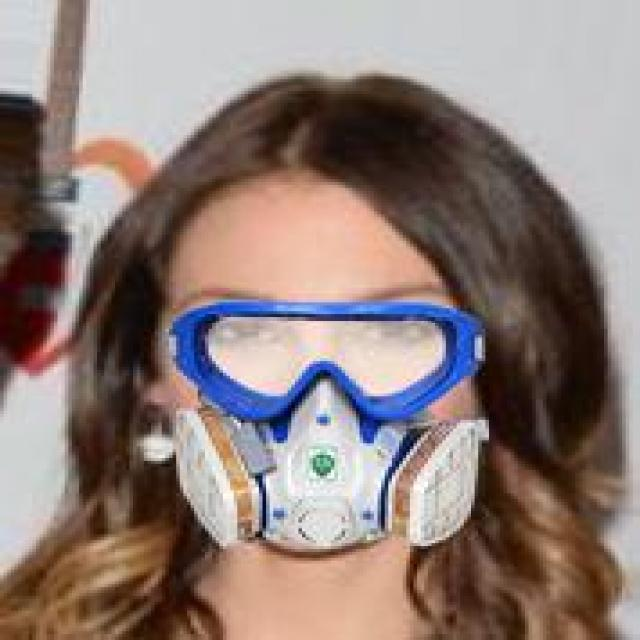mask: (86, 79, 579, 587)
